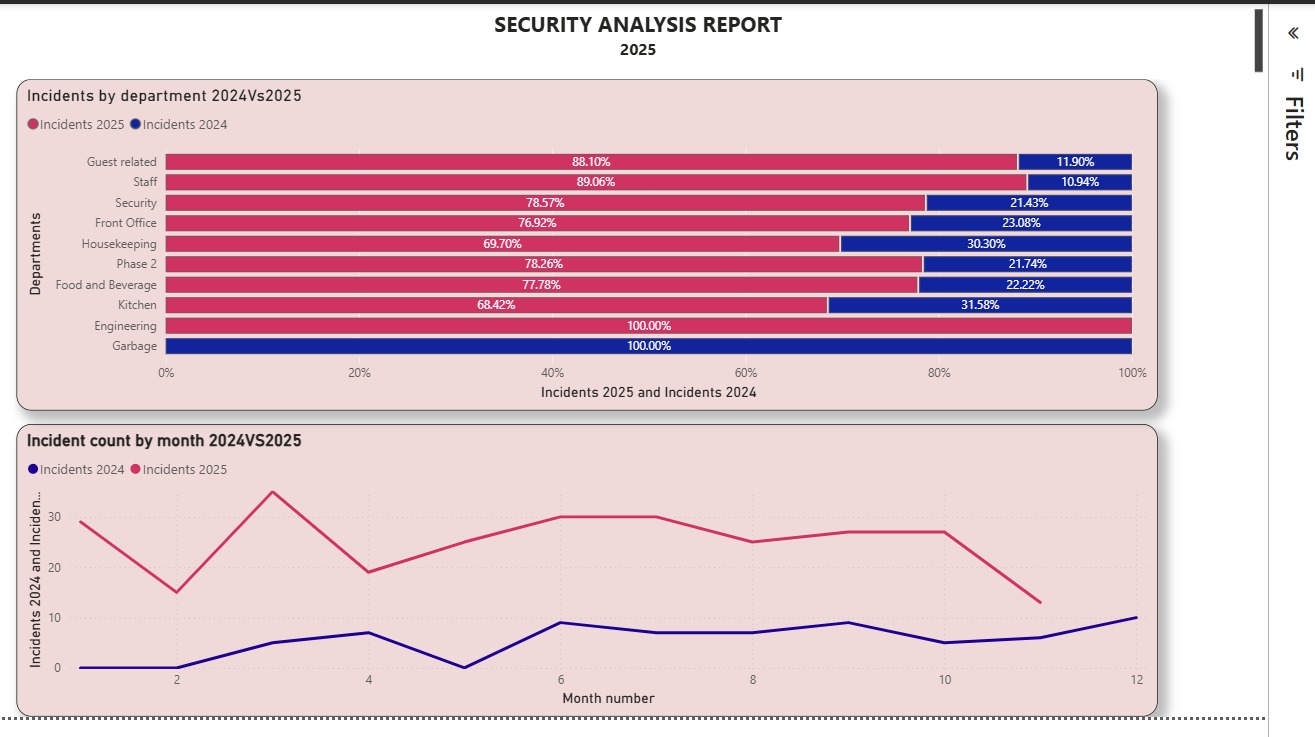

The dashboard page shown, as its layout file describes it:
{"tool":"powerbi","page":{"name":"2024Vs2025","canvas":[1280,720],"ordinal":4},"visuals":[{"type":"hundredPercentStackedBarChart","title":"Incidents by department 2024Vs2025","fields":{"Category":["Data24/25.Departments"],"Y":["Data24/25.Incidents 2025","Data24/25.Incidents 2024"]},"box":[16.7,75.7,1152.3,334.6],"z":1000},{"type":"lineChart","title":"Incident count by month 2024VS2025","fields":{"Y":["Data24/25.Incidents 2024","Data24/25.Incidents 2025"],"Category":["Data24/25.Monthnumber"]},"box":[16.1,424.4,1151.7,295.6],"z":2000},{"type":"textbox","box":[16.7,0,1262.8,75.7],"z":4000}]}

Visuals, with their boxes on the page's 1280x720 design canvas (x1, y1, x2, y2). These are canvas units, not pixel positions in the 1315x737 screenshot, which may show the page scaled, cropped or inside an application window:
"Incidents by department 2024Vs2025" hundredPercentStackedBarChart: BBox(17, 76, 1169, 410)
"Incident count by month 2024VS2025" lineChart: BBox(16, 424, 1168, 720)
textbox: BBox(17, 0, 1280, 76)
